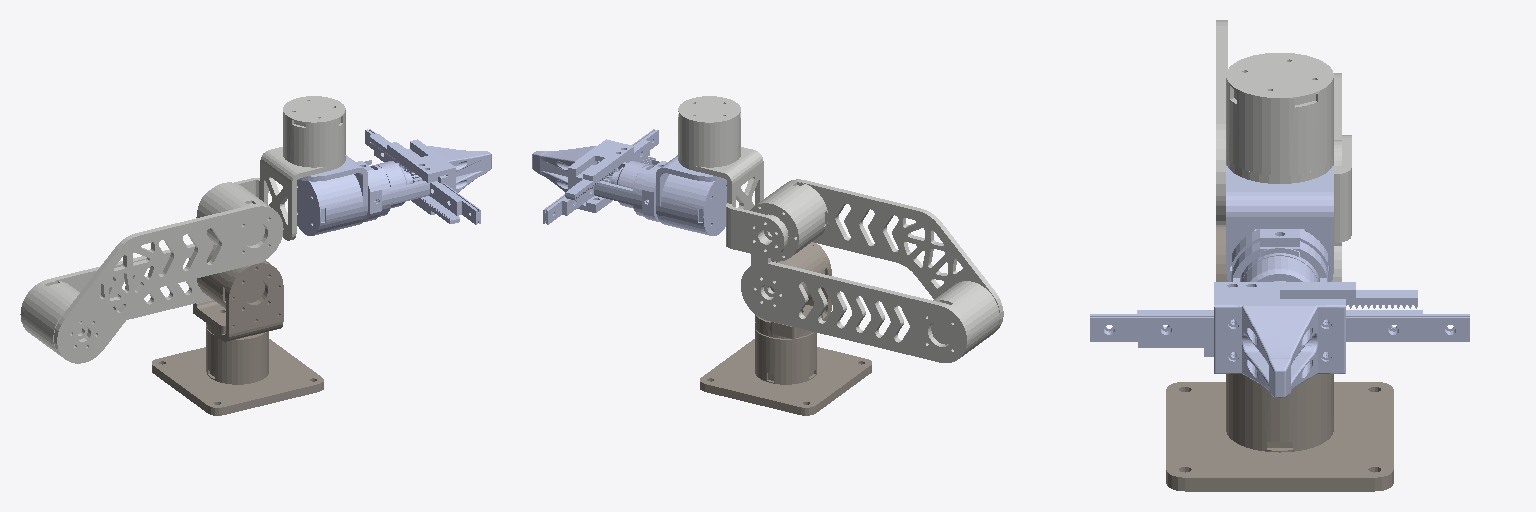
URDF robot description (panther_description_6):
<?xml version="1.0" encoding="utf-8"?>
<!-- This URDF was automatically created by SolidWorks to URDF Exporter! Originally created by [author] ([email redacted]) 
     Commit Version: 1.6.0-4-g7f85cfe  Build Version: 1.6.7995.38578
     For more information, please see http://wiki.ros.org/sw_urdf_exporter -->
<robot
  name="panther_description_6">
  <link
    name="base_link">
    <inertial>
      <origin
        xyz="-5.2241152895398E-17 -4.96463192018528E-06 0.00682594884114426"
        rpy="0 0 0" />
      <mass
        value="1.00980967249859" />
      <inertia
        ixx="0.00110668630953746"
        ixy="1.22236780263816E-19"
        ixz="-3.13724589956116E-21"
        iyy="0.0011065522944672"
        iyz="-8.4529687969788E-08"
        izz="0.00216887903845609" />
    </inertial>
    <visual>
      <origin
        xyz="0 0 0"
        rpy="0 0 0" />
      <geometry>
        <mesh
          filename="package://panther_description_6/meshes/base_link.STL" />
      </geometry>
      <material
        name="">
        <color
          rgba="0.647058823529412 0.619607843137255 0.588235294117647 1" />
      </material>
    </visual>
    <collision>
      <origin
        xyz="0 0 0"
        rpy="0 0 0" />
      <geometry>
        <mesh
          filename="package://panther_description_6/meshes/base_link.STL" />
      </geometry>
    </collision>
  </link>
  <link
    name="link1">
    <inertial>
      <origin
        xyz="-0.000140138460727449 -0.0115178455380478 -0.0189175974816605"
        rpy="0 0 0" />
      <mass
        value="0.433540348958132" />
      <inertia
        ixx="0.000278935703826545"
        ixy="1.25625050632852E-06"
        ixz="6.95888805367134E-08"
        iyy="0.000266771663216221"
        iyz="6.1414956964764E-05"
        izz="0.000227700191108933" />
    </inertial>
    <visual>
      <origin
        xyz="0 0 0"
        rpy="0 0 0" />
      <geometry>
        <mesh
          filename="package://panther_description_6/meshes/link1.STL" />
      </geometry>
      <material
        name="">
        <color
          rgba="0.647058823529412 0.619607843137255 0.588235294117647 1" />
      </material>
    </visual>
    <collision>
      <origin
        xyz="0 0 0"
        rpy="0 0 0" />
      <geometry>
        <mesh
          filename="package://panther_description_6/meshes/link1.STL" />
      </geometry>
    </collision>
  </link>
  <joint
    name="joint1"
    type="revolute">
    <origin
      xyz="0 0 0.1005"
      rpy="0 0 0" />
    <parent
      link="base_link" />
    <child
      link="link1" />
    <axis
      xyz="0 0 1" />
    <limit
      lower="-3.14"
      upper="3.14"
      effort="3"
      velocity="1" />
  </joint>
  <link
    name="link2">
    <inertial>
      <origin
        xyz="0.106318068147721 -4.16333634234434E-16 0.0236482334898493"
        rpy="0 0 0" />
      <mass
        value="0.622856642139776" />
      <inertia
        ixx="0.000205489040771828"
        ixy="2.69493083500878E-19"
        ixz="-1.05315902249168E-07"
        iyy="0.00226759906569128"
        iyz="1.67836077130502E-20"
        izz="0.00241151515889848" />
    </inertial>
    <visual>
      <origin
        xyz="0 0 0"
        rpy="0 0 0" />
      <geometry>
        <mesh
          filename="package://panther_description_6/meshes/link2.STL" />
      </geometry>
      <material
        name="">
        <color
          rgba="0.827450980392157 0.827450980392157 0.819607843137255 1" />
      </material>
    </visual>
    <collision>
      <origin
        xyz="0 0 0"
        rpy="0 0 0" />
      <geometry>
        <mesh
          filename="package://panther_description_6/meshes/link2.STL" />
      </geometry>
    </collision>
  </link>
  <joint
    name="joint2"
    type="revolute">
    <origin
      xyz="0 0 0"
      rpy="1.5707963267949 0 3.14159265358979" />
    <parent
      link="link1" />
    <child
      link="link2" />
    <axis
      xyz="0 0 1" />
    <limit
      lower="-3.14"
      upper="3.14"
      effort="3"
      velocity="1" />
  </joint>
  <link
    name="link3">
    <inertial>
      <origin
        xyz="0.109732971088991 0.0113517385502648 0.0248597234802146"
        rpy="0 0 0" />
      <mass
        value="0.679340563941824" />
      <inertia
        ixx="0.000314081247177579"
        ixy="3.62847729366768E-05"
        ixz="3.17939972600301E-08"
        iyy="0.00265484041963988"
        iyz="1.00402096614936E-07"
        izz="0.00290700981572203" />
    </inertial>
    <visual>
      <origin
        xyz="0 0 0"
        rpy="0 0 0" />
      <geometry>
        <mesh
          filename="package://panther_description_6/meshes/link3.STL" />
      </geometry>
      <material
        name="">
        <color
          rgba="0.827450980392157 0.827450980392157 0.819607843137255 1" />
      </material>
    </visual>
    <collision>
      <origin
        xyz="0 0 0"
        rpy="0 0 0" />
      <geometry>
        <mesh
          filename="package://panther_description_6/meshes/link3.STL" />
      </geometry>
    </collision>
  </link>
  <joint
    name="joint3"
    type="revolute">
    <origin
      xyz="0.179999999999998 0 0"
      rpy="3.14159265358979 0 2.83491633418811" />
    <parent
      link="link2" />
    <child
      link="link3" />
    <axis
      xyz="0 0 1" />
    <limit
      lower="-3.14"
      upper="3.14"
      effort="3"
      velocity="1" />
  </joint>
  <link
    name="link4">
    <inertial>
      <origin
        xyz="0.0513406245602285 -0.032905838412701 0.00868209734629198"
        rpy="0 0 0" />
      <mass
        value="0.399529174718197" />
      <inertia
        ixx="0.000329818055330247"
        ixy="0.000104110882896881"
        ixz="8.0937605869896E-05"
        iyy="0.000360373538347201"
        iyz="-6.00949681992951E-05"
        izz="0.000376825850928195" />
    </inertial>
    <visual>
      <origin
        xyz="0 0 0"
        rpy="0 0 0" />
      <geometry>
        <mesh
          filename="package://panther_description_6/meshes/link4.STL" />
      </geometry>
      <material
        name="">
        <color
          rgba="0.827450980392157 0.827450980392157 0.819607843137255 1" />
      </material>
    </visual>
    <collision>
      <origin
        xyz="0 0 0"
        rpy="0 0 0" />
      <geometry>
        <mesh
          filename="package://panther_description_6/meshes/link4.STL" />
      </geometry>
    </collision>
  </link>
  <joint
    name="joint4"
    type="revolute">
    <origin
      xyz="0.188809427730714 0 0"
      rpy="3.14159265358979 0 -0.306676319401683" />
    <parent
      link="link3" />
    <child
      link="link4" />
    <axis
      xyz="0 0 1" />
    <limit
      lower="-3.14"
      upper="3.14"
      effort="3"
      velocity="1" />
  </joint>
  <link
    name="link5">
    <inertial>
      <origin
        xyz="0.0160776069634141 -3.55488254803203E-15 -0.0180581657290753"
        rpy="0 0 0" />
      <mass
        value="0.321861622200536" />
      <inertia
        ixx="0.000171651346378433"
        ixy="5.0956870221055E-20"
        ixz="-4.05707603604005E-05"
        iyy="0.000192352594219117"
        iyz="1.11644859685122E-19"
        izz="0.000185377128431133" />
    </inertial>
    <visual>
      <origin
        xyz="0 0 0"
        rpy="0 0 0" />
      <geometry>
        <mesh
          filename="package://panther_description_6/meshes/link5.STL" />
      </geometry>
      <material
        name="">
        <color
          rgba="0.792156862745098 0.819607843137255 0.933333333333333 1" />
      </material>
    </visual>
    <collision>
      <origin
        xyz="0 0 0"
        rpy="0 0 0" />
      <geometry>
        <mesh
          filename="package://panther_description_6/meshes/link5.STL" />
      </geometry>
    </collision>
  </link>
  <joint
    name="joint5"
    type="revolute">
    <origin
      xyz="0.0799999999999999 0 0"
      rpy="-1.5707963267949 0 0" />
    <parent
      link="link4" />
    <child
      link="link5" />
    <axis
      xyz="0 0 1" />
    <limit
      lower="-3.14"
      upper="3.14"
      effort="3"
      velocity="1" />
  </joint>
  <link
    name="link6">
    <inertial>
      <origin
        xyz="3.60105311477812E-09 -0.000284588421954529 0.0377143827584991"
        rpy="0 0 0" />
      <mass
        value="0.105249535815904" />
      <inertia
        ixx="2.77346731943087E-05"
        ixy="1.22718333526573E-16"
        ixz="1.30991468967669E-12"
        iyy="9.02469343493535E-05"
        iyz="-4.27231791224834E-07"
        izz="8.48221123206208E-05" />
    </inertial>
    <visual>
      <origin
        xyz="0 0 0"
        rpy="0 0 0" />
      <geometry>
        <mesh
          filename="package://panther_description_6/meshes/link6.STL" />
      </geometry>
      <material
        name="">
        <color
          rgba="0.827450980392157 0.827450980392157 0.819607843137255 1" />
      </material>
    </visual>
    <collision>
      <origin
        xyz="0 0 0"
        rpy="0 0 0" />
      <geometry>
        <mesh
          filename="package://panther_description_6/meshes/link6.STL" />
      </geometry>
    </collision>
  </link>
  <joint
    name="joint6"
    type="revolute">
    <origin
      xyz="0.0359999999999936 0 0"
      rpy="-1.5707963267949 0 -1.5707963267949" />
    <parent
      link="link5" />
    <child
      link="link6" />
    <axis
      xyz="0 0 1" />
    <limit
      lower="-3.14"
      upper="3.14"
      effort="3"
      velocity="1" />
  </joint>
  <link
    name="gripper_centor_link">
    <inertial>
      <origin
        xyz="3.60105311504047E-09 -0.000284588421954501 0.0377143827584991"
        rpy="0 0 0" />
      <mass
        value="0.105249535815904" />
      <inertia
        ixx="2.77346731943087E-05"
        ixy="1.22718403053125E-16"
        ixz="1.30991468977798E-12"
        iyy="9.02469343493535E-05"
        iyz="-4.27231791224835E-07"
        izz="8.48221123206208E-05" />
    </inertial>
    <visual>
      <origin
        xyz="0 0 0"
        rpy="0 0 0" />
      <geometry>
        <mesh
          filename="package://panther_description_6/meshes/gripper_centor_link.STL" />
      </geometry>
      <material
        name="">
        <color
          rgba="0.792156862745098 0.819607843137255 0.933333333333333 1" />
      </material>
    </visual>
    <collision>
      <origin
        xyz="0 0 0"
        rpy="0 0 0" />
      <geometry>
        <mesh
          filename="package://panther_description_6/meshes/gripper_centor_link.STL" />
      </geometry>
    </collision>
  </link>
  <joint
    name="gripper_centor_joint"
    type="fixed">
    <origin
      xyz="0 0 0"
      rpy="0 0 0" />
    <parent
      link="link6" />
    <child
      link="gripper_centor_link" />
    <axis
      xyz="0 0 0" />
    <limit
      lower="-3.14"
      upper="3.14"
      effort="3"
      velocity="1" />
  </joint>
  <link
    name="gripper_1_link">
    <inertial>
      <origin
        xyz="-0.0469165213249079 0.00352675466343524 0.00690853002761778"
        rpy="0 0 0" />
      <mass
        value="0.0409389598025815" />
      <inertia
        ixx="1.39994907767563E-05"
        ixy="6.6127914063864E-07"
        ixz="6.54804420464583E-07"
        iyy="1.55481122156698E-05"
        iyz="5.97877399818502E-07"
        izz="9.7441913122424E-06" />
    </inertial>
    <visual>
      <origin
        xyz="0 0 0"
        rpy="0 0 0" />
      <geometry>
        <mesh
          filename="package://panther_description_6/meshes/gripper_1_link.STL" />
      </geometry>
      <material
        name="">
        <color
          rgba="0.792156862745098 0.819607843137255 0.933333333333333 1" />
      </material>
    </visual>
    <collision>
      <origin
        xyz="0 0 0"
        rpy="0 0 0" />
      <geometry>
        <mesh
          filename="package://panther_description_6/meshes/gripper_1_link.STL" />
      </geometry>
    </collision>
  </link>
  <joint
    name="gripper_1_joint"
    type="prismatic">
    <origin
      xyz="0 0 0.138000000000007"
      rpy="3.14159265358979 -1.5707963267949 0" />
    <parent
      link="link6" />
    <child
      link="gripper_1_link" />
    <axis
      xyz="0 0 1" />
    <limit
      lower="0"
      upper="0.06"
      effort="0.18"
      velocity="1" />
  </joint>
  <link
    name="gripper_2_link">
    <inertial>
      <origin
        xyz="-0.0468917028446902 0.00381576330660352 0.00713197736004825"
        rpy="0 0 0" />
      <mass
        value="0.0410037416759648" />
      <inertia
        ixx="1.39000842886769E-05"
        ixy="6.89081844154039E-07"
        ixz="6.47795449431969E-07"
        iyy="1.53445665156082E-05"
        iyz="6.26338881883597E-07"
        izz="9.86235031142114E-06" />
    </inertial>
    <visual>
      <origin
        xyz="0 0 0"
        rpy="0 0 0" />
      <geometry>
        <mesh
          filename="package://panther_description_6/meshes/gripper_2_link.STL" />
      </geometry>
      <material
        name="">
        <color
          rgba="0.792156862745098 0.819607843137255 0.933333333333333 1" />
      </material>
    </visual>
    <collision>
      <origin
        xyz="0 0 0"
        rpy="0 0 0" />
      <geometry>
        <mesh
          filename="package://panther_description_6/meshes/gripper_2_link.STL" />
      </geometry>
    </collision>
  </link>
  <joint
    name="gripper_2_joint"
    type="prismatic">
    <origin
      xyz="0 0 0.138"
      rpy="0 -1.5708 0" />
    <parent
      link="link6" />
    <child
      link="gripper_2_link" />
    <axis
      xyz="0 0 1" />
    <limit
      lower="0"
      upper="0.06"
      effort="0.18"
      velocity="1" />
    <mimic
      joint="gripper_1_joint"
      multiplier="1"
      offset="0" />
  </joint>
</robot>

--- Render facts (derived) ---
Views: 3 orthographic renders of the robot side by side, from view 1: azimuth 30°, elevation 25°; view 2: azimuth 150°, elevation 25°; view 3: azimuth 270°, elevation 25°.
Model panther_description_6 with 10 links and 9 joints (6 revolute, 2 prismatic, 1 fixed), rooted at base_link, posed all joints at 0.
Visible links, largest first — view 1: link3, base_link, link4, link1, link2, link5, gripper_centor_link, gripper_2_link, gripper_1_link; view 2: link2, link3, base_link, link4, link5, gripper_centor_link, gripper_1_link, link1, gripper_2_link; view 3: base_link, link4, gripper_centor_link, gripper_2_link, link5, gripper_1_link, link3, link2, link1.
Link boxes in pixels (box(x1,y1,x2,y2)): link3: box(54, 182, 283, 363); base_link: box(152, 326, 323, 415); link4: box(198, 96, 345, 240); link1: box(193, 244, 283, 341); link2: box(20, 242, 213, 354); link5: box(297, 155, 367, 235); gripper_centor_link: box(356, 129, 480, 224); gripper_2_link: box(369, 134, 491, 192); gripper_1_link: box(407, 139, 487, 223); link2: box(741, 261, 999, 362); link3: box(750, 179, 1003, 334); base_link: box(700, 329, 871, 415); link4: box(678, 96, 788, 265); link5: box(656, 155, 726, 235); gripper_centor_link: box(543, 129, 667, 224); gripper_1_link: box(532, 153, 655, 212); link1: box(755, 242, 831, 338); gripper_2_link: box(534, 139, 633, 199); base_link: box(1166, 374, 1393, 491); link4: box(1226, 53, 1351, 245); gripper_centor_link: box(1090, 229, 1469, 341); gripper_2_link: box(1214, 282, 1417, 397); link5: box(1226, 166, 1333, 281); gripper_1_link: box(1138, 299, 1345, 397); link3: box(1216, 20, 1227, 226); link2: box(1332, 73, 1341, 281); link1: box(1216, 227, 1227, 281).
Bounding box of the posed robot: 0.4725 × 0.2 × 0.2515 m (x, y, z).
9 mesh visuals loaded from 10 distinct referenced files (9 binary STL); not drawn: 1 (reference not matched to a file when rendering).